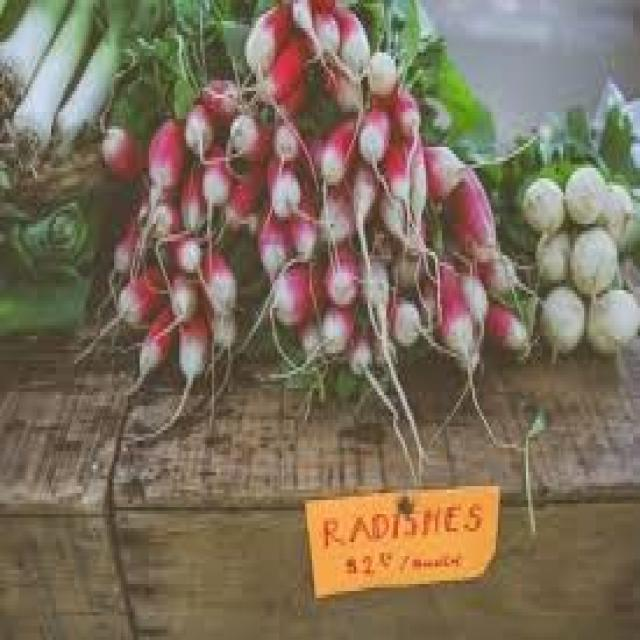organic waste: (51, 0, 170, 147), (474, 74, 638, 178), (0, 0, 95, 157), (396, 24, 496, 150), (149, 0, 267, 101), (102, 0, 172, 126), (0, 0, 70, 105), (417, 242, 472, 361), (440, 161, 500, 269), (0, 266, 91, 332), (0, 196, 84, 266), (365, 200, 426, 290), (353, 0, 421, 59), (584, 284, 638, 354), (240, 0, 288, 77), (254, 32, 305, 102), (116, 259, 170, 325), (268, 255, 321, 322), (566, 220, 616, 290), (142, 94, 177, 189), (316, 112, 361, 185), (489, 168, 528, 252), (354, 252, 391, 339), (130, 304, 172, 378), (317, 241, 363, 308), (538, 284, 582, 354), (480, 290, 530, 350), (95, 119, 142, 182), (400, 123, 426, 235), (417, 140, 463, 203), (377, 119, 410, 203), (563, 157, 603, 224), (314, 301, 356, 364), (126, 189, 177, 238), (312, 178, 351, 242), (260, 154, 302, 213), (175, 158, 207, 235), (177, 304, 207, 385), (223, 105, 266, 161), (598, 178, 633, 245), (475, 248, 519, 301), (377, 189, 414, 252), (333, 0, 368, 66), (202, 77, 246, 129), (182, 94, 216, 161), (354, 105, 391, 164), (254, 210, 288, 273), (322, 59, 366, 105), (294, 130, 330, 186), (284, 189, 316, 252), (230, 161, 268, 213), (202, 242, 233, 304), (459, 269, 491, 329), (521, 178, 561, 224), (530, 228, 568, 276), (263, 112, 303, 157), (274, 66, 310, 116), (165, 262, 198, 315), (309, 7, 340, 63), (384, 84, 417, 136), (200, 147, 228, 206), (386, 294, 419, 343), (79, 196, 103, 259), (107, 224, 140, 269), (361, 49, 393, 91), (340, 325, 370, 367), (170, 220, 195, 266), (210, 308, 235, 350), (295, 311, 319, 353), (282, 0, 307, 35), (0, 0, 19, 35), (305, 0, 340, 14)
